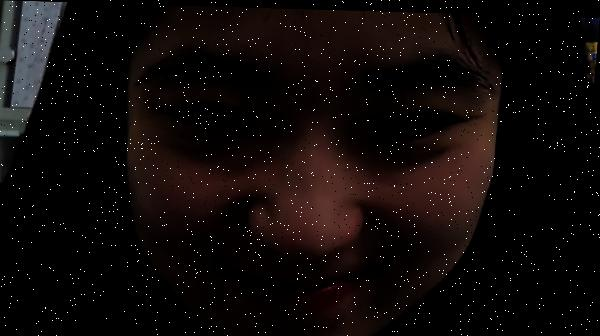eye: (213, 110, 238, 131), (392, 116, 419, 135)
iris: (172, 105, 255, 132), (380, 115, 451, 139)
